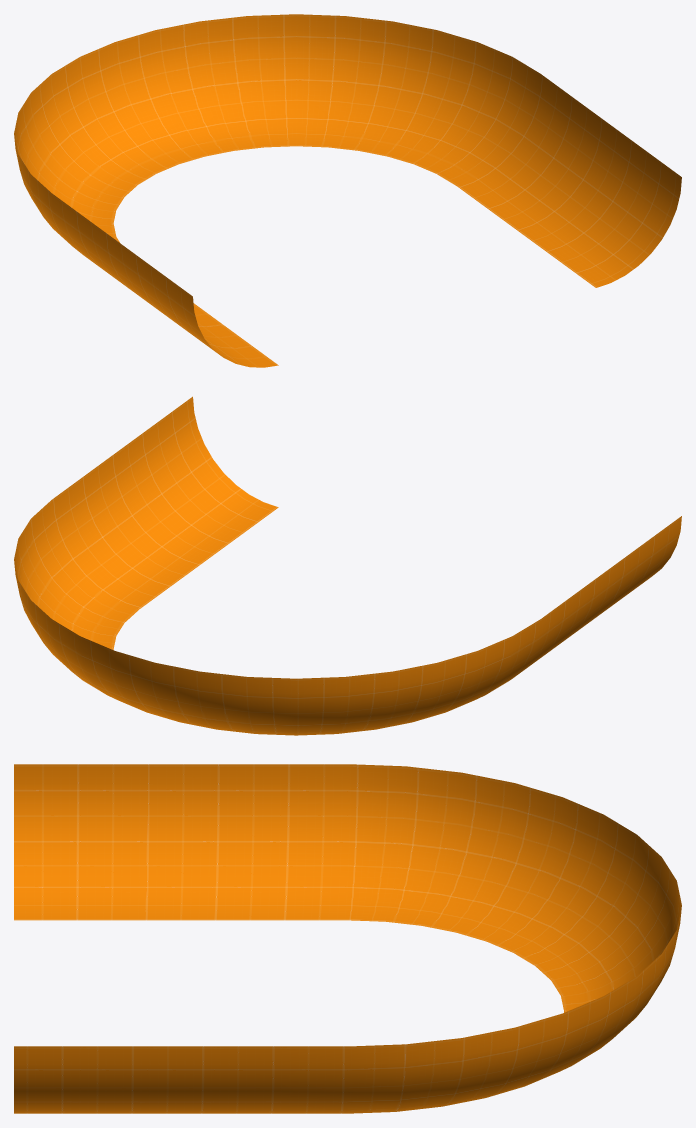
The model's file is PipeD.glb.
3 views of the same model, one above another, from view 1: azimuth 30°, elevation 25°; view 2: azimuth 150°, elevation 25°; view 3: azimuth 270°, elevation 25° (orthographic). The views are drawn at different scales.
Parts seen in each view (by area): view 1: PipeD_Mesh; view 2: PipeD_Mesh; view 3: PipeD_Mesh.
Boxes of the visible parts, <box> form: PipeD_Mesh: <box>14,14,681,367</box>; PipeD_Mesh: <box>14,396,681,735</box>; PipeD_Mesh: <box>14,764,681,1113</box>.
Bounding box in the file's own units: 16 × 2.81 × 16.
Materials: 1 (1 with a texture image).
